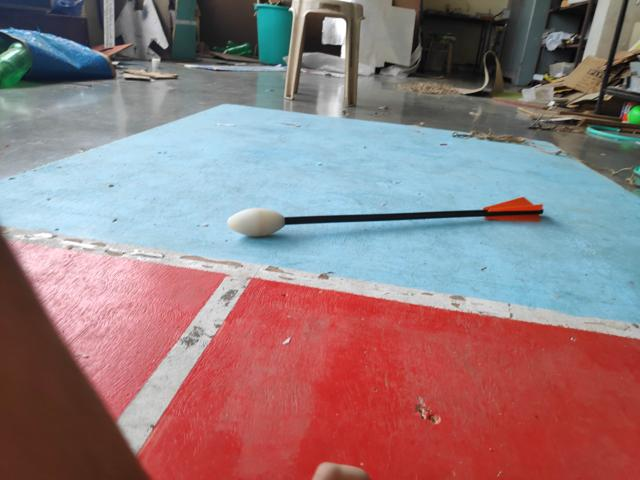Head: (225, 206, 287, 237)
Tail: (481, 193, 547, 225)
